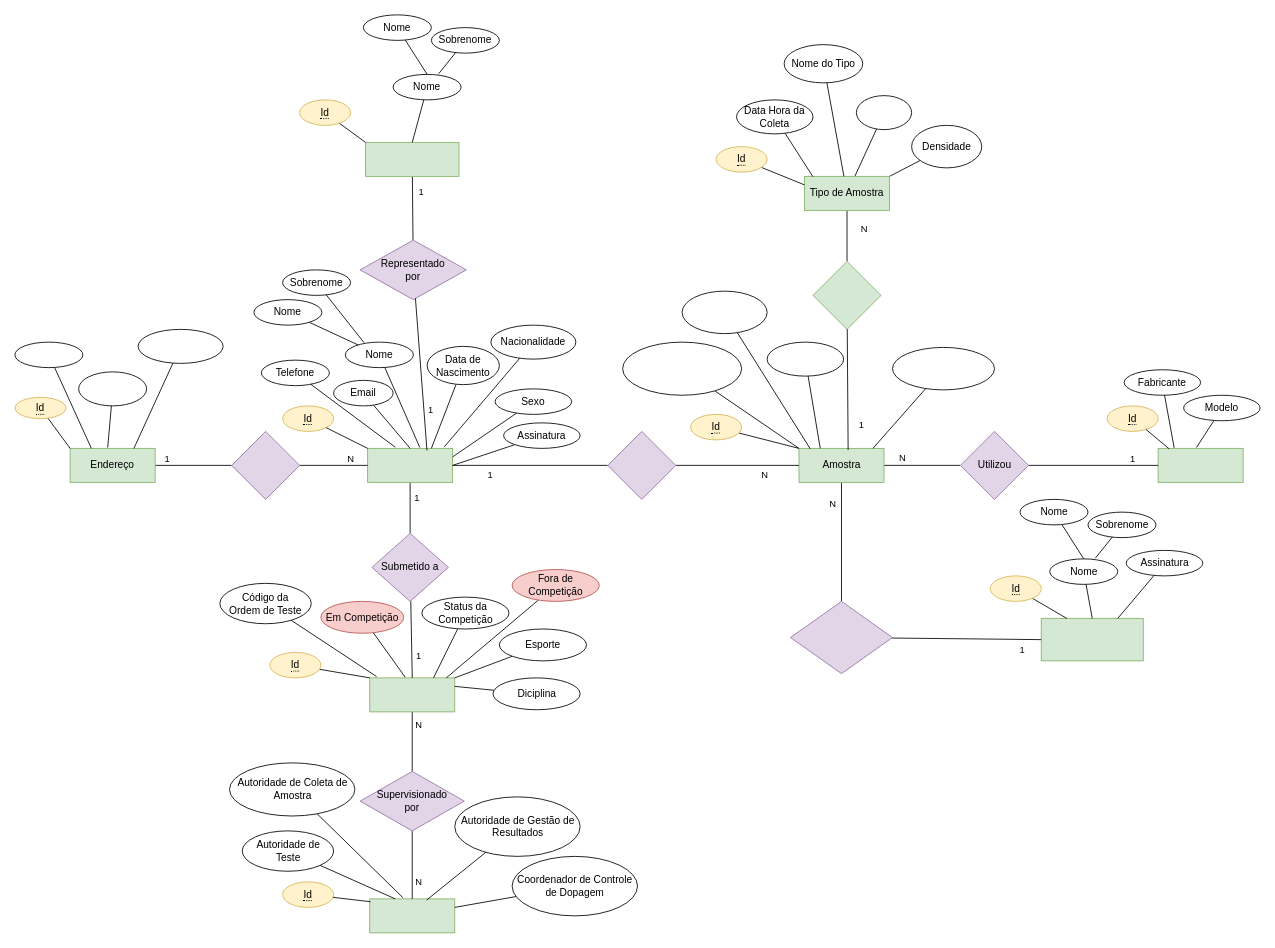
The diagram is 1275 pixels wide and 948 high, and some of its shapes have lost their labels. The shapes that lost their labels are listed below. From the top down, each one's box as (x1, y1, x2, y2) in pixels, then its label:
(856, 95, 912, 130): Volume
(365, 142, 459, 176): Representante do Atleta
(681, 290, 767, 334): Iniciais do Atleta
(812, 261, 881, 329): Possui
(14, 341, 83, 368): CEP
(137, 329, 223, 363): Complemento
(766, 341, 844, 376): Hora da Selagem
(622, 341, 742, 395): Numero do Código da Amostra
(892, 347, 994, 390): Numero da Amostra Parcial
(78, 371, 147, 406): Numero
(231, 431, 300, 499): Mora em
(367, 448, 453, 482): Atleta
(607, 431, 676, 499): Fornece
(1157, 448, 1243, 482): Equipamento
(790, 601, 892, 674): Responsável por
(1040, 618, 1143, 661): Oficial de Controle de Dopagem
(369, 677, 455, 712): Teste
(369, 898, 455, 933): Autoridades
